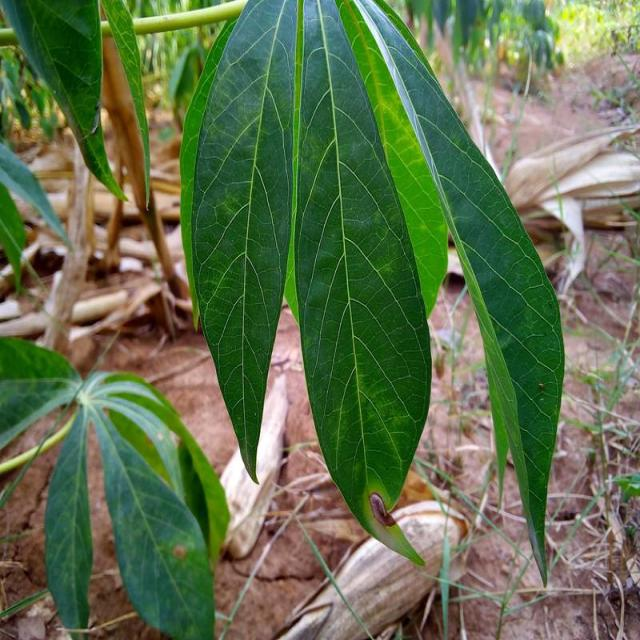cassava leaf: (178, 0, 566, 587)
